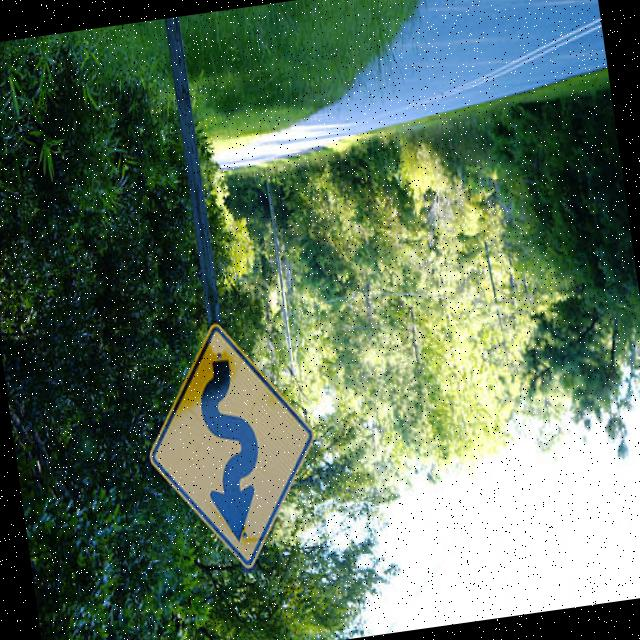left_sharp_curve: (130, 307, 334, 598)
